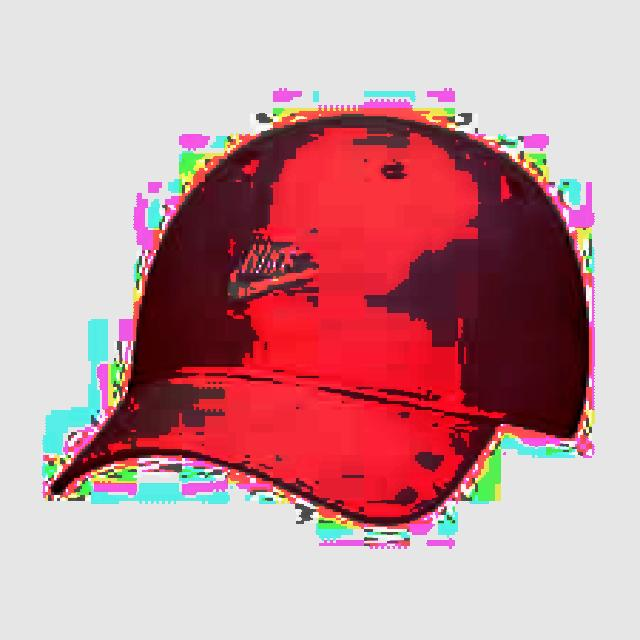TOPI: (29, 90, 609, 550)
